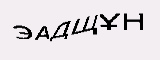А: (35, 25, 49, 42)
Д: (49, 20, 70, 42)
Н: (121, 12, 145, 30)
Щ: (70, 15, 100, 38)
Э: (12, 24, 32, 41)
Ұ: (98, 12, 120, 32)
